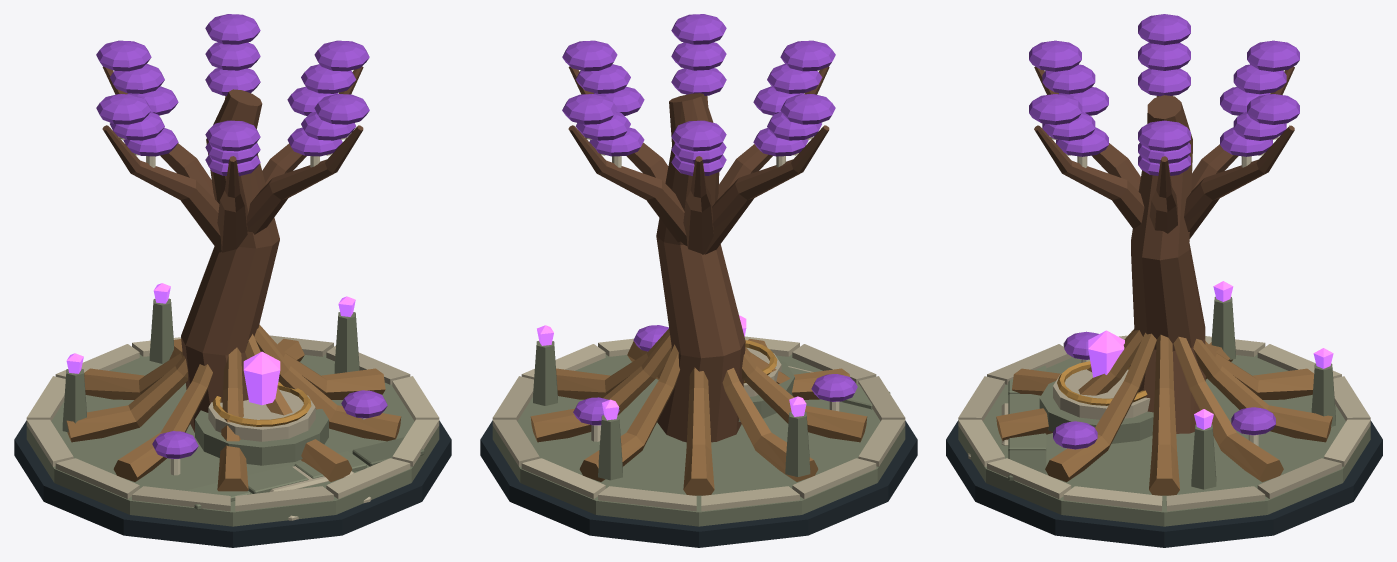
File: nature__praga__L05.glb
The picture shows the model from 3 angles, left to right: view 1: azimuth 30°, elevation 25°; view 2: azimuth 150°, elevation 25°; view 3: azimuth 270°, elevation 25°; orthographic projection.
Parts seen in each view (by area): view 1: structure, weapon; view 2: structure; view 3: structure, weapon.
Part boxes in pixels (x1,y1,x2,y2): structure: (14, 14, 451, 547); weapon: (243, 351, 280, 405); structure: (480, 14, 917, 547); structure: (946, 14, 1382, 547); weapon: (1088, 330, 1124, 377).
Size of the model in its own units: 0.8624 by 0.8354 by 0.8624.
